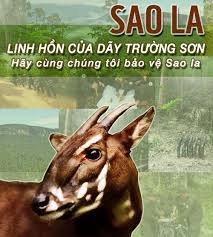sao_la: (1, 105, 155, 235)
